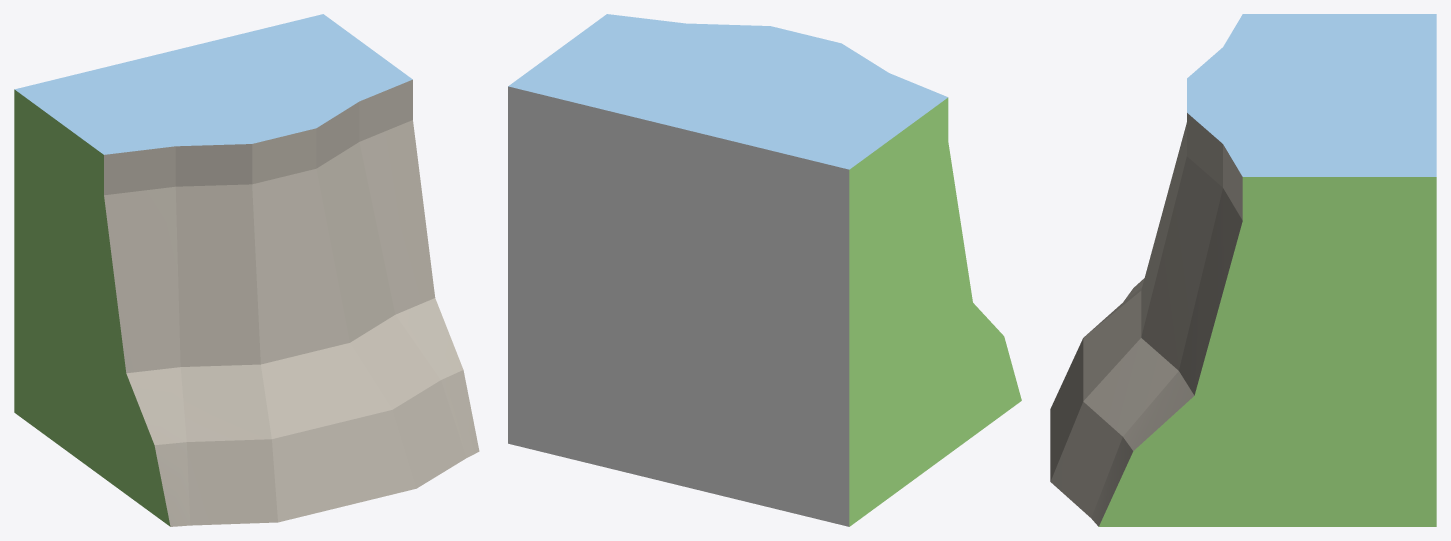
Rendered from Wall_Straight_Deformed_Convex_2x2_Base.glb.
3 views of the same model, side by side, from view 1: azimuth 30°, elevation 25°; view 2: azimuth 150°, elevation 25°; view 3: azimuth 270°, elevation 25° (orthographic). The views are drawn at different scales.
Parts seen in each view (by area): view 1: Wall_Straight_Deformed_Convex_2x2_Base; view 2: Wall_Straight_Deformed_Convex_2x2_Base; view 3: Wall_Straight_Deformed_Convex_2x2_Base.
Part boxes in pixels (x1=…): Wall_Straight_Deformed_Convex_2x2_Base: x1=14, y1=14, x2=479, y2=526; Wall_Straight_Deformed_Convex_2x2_Base: x1=508, y1=14, x2=1021, y2=526; Wall_Straight_Deformed_Convex_2x2_Base: x1=1050, y1=14, x2=1436, y2=526.
Size of the model in its own units: 200 by 200 by 200.
